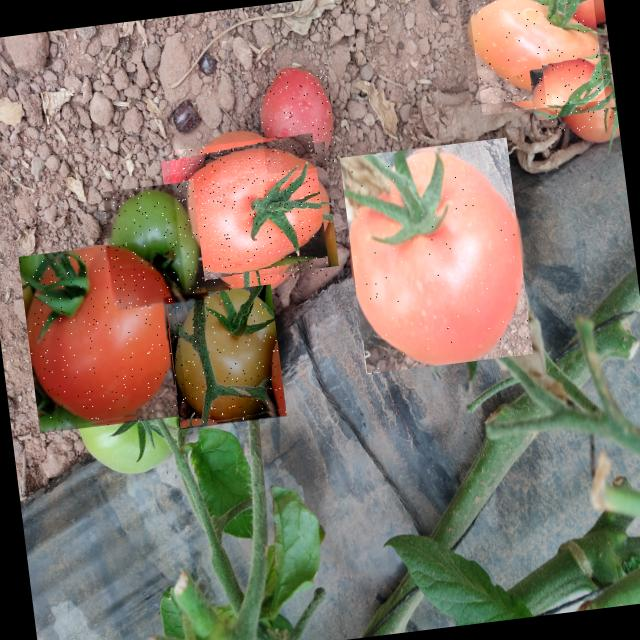Ripe Tomato: (340, 137, 532, 374), (18, 238, 189, 433), (168, 133, 330, 294), (467, 0, 605, 114), (255, 67, 338, 173), (540, 43, 618, 134)
Unripe Tomato: (163, 284, 286, 429), (102, 180, 206, 310)
